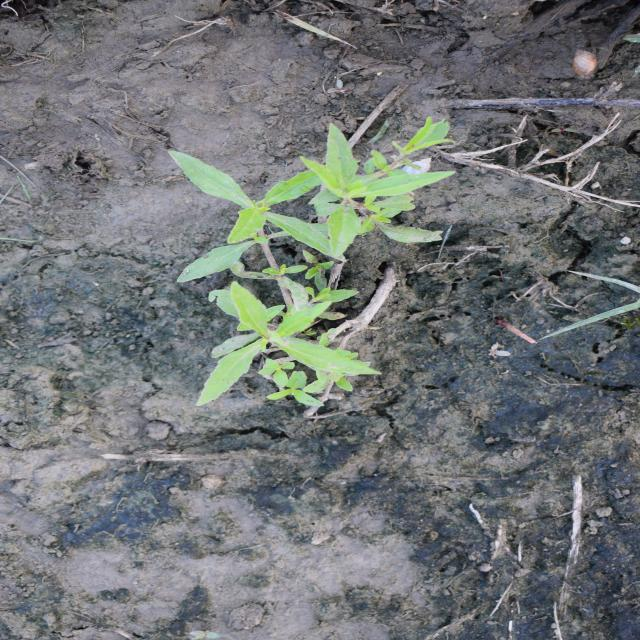Eclipta: (160, 114, 462, 411)
